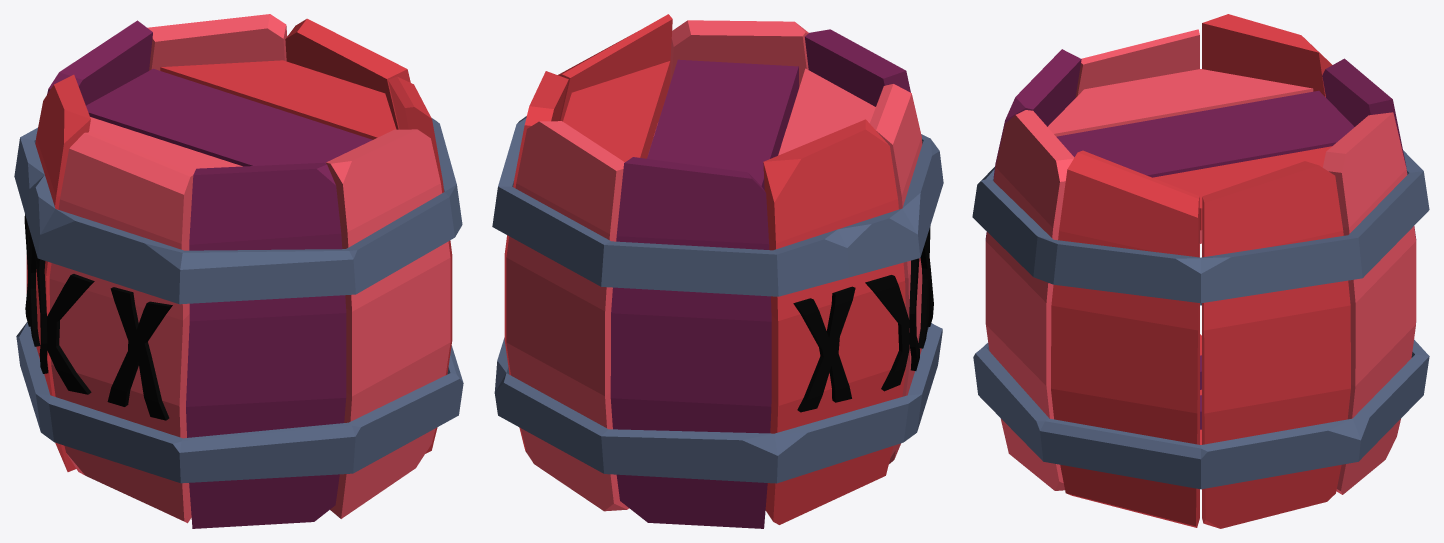
The model's file is Barrel 2_2b.fbx.
3 views of the same model, side by side, from view 1: azimuth 30°, elevation 25°; view 2: azimuth 150°, elevation 25°; view 3: azimuth 270°, elevation 25° (orthographic). The views are drawn at different scales.
Visible parts, largest first — view 1: Barrel 2_2b.004, Barrel 2_2b.009, Barrel 2_2b.005, Barrel 2_2b.002, Barrel 2_2b.010, Barrel 2_2b.011, Barrel 2_2b.003, Barrel 2_2b.006, Barrel 2_2b.007, Barrel 2_2b.001, Barrel 2_2b.008; view 2: Barrel 2_2b.001, Barrel 2_2b.003, Barrel 2_2b.006, Barrel 2_2b.010, Barrel 2_2b.002, Barrel 2_2b.011, Barrel 2_2b.009, Barrel 2_2b.005, Barrel 2_2b.004, Barrel 2_2b.008, Barrel 2_2b.007; view 3: Barrel 2_2b.008, Barrel 2_2b.007, Barrel 2_2b.002, Barrel 2_2b.010, Barrel 2_2b.011, Barrel 2_2b.006, Barrel 2_2b.005, Barrel 2_2b.003, Barrel 2_2b.009, Barrel 2_2b.004, Barrel 2_2b.001.
Part boxes in pixels (bbox=[...]): Barrel 2_2b.004: bbox=[186, 162, 346, 528]; Barrel 2_2b.009: bbox=[47, 132, 193, 523]; Barrel 2_2b.005: bbox=[326, 129, 450, 518]; Barrel 2_2b.002: bbox=[86, 60, 396, 174]; Barrel 2_2b.010: bbox=[14, 117, 462, 304]; Barrel 2_2b.011: bbox=[16, 322, 463, 483]; Barrel 2_2b.003: bbox=[24, 74, 90, 471]; Barrel 2_2b.006: bbox=[147, 14, 287, 70]; Barrel 2_2b.007: bbox=[285, 18, 410, 129]; Barrel 2_2b.001: bbox=[47, 20, 152, 105]; Barrel 2_2b.008: bbox=[388, 76, 452, 453]; Barrel 2_2b.001: bbox=[610, 157, 771, 528]; Barrel 2_2b.003: bbox=[763, 119, 909, 524]; Barrel 2_2b.006: bbox=[506, 121, 629, 511]; Barrel 2_2b.010: bbox=[492, 116, 943, 296]; Barrel 2_2b.002: bbox=[563, 59, 875, 190]; Barrel 2_2b.011: bbox=[494, 323, 942, 483]; Barrel 2_2b.009: bbox=[870, 84, 933, 463]; Barrel 2_2b.005: bbox=[670, 20, 808, 128]; Barrel 2_2b.004: bbox=[805, 29, 910, 106]; Barrel 2_2b.008: bbox=[558, 14, 672, 156]; Barrel 2_2b.007: bbox=[504, 71, 568, 452]; Barrel 2_2b.008: bbox=[1051, 150, 1199, 527]; Barrel 2_2b.007: bbox=[1202, 161, 1350, 528]; Barrel 2_2b.002: bbox=[1048, 69, 1354, 243]; Barrel 2_2b.010: bbox=[972, 150, 1429, 303]; Barrel 2_2b.011: bbox=[973, 303, 1429, 489]; Barrel 2_2b.006: bbox=[1323, 112, 1416, 494]; Barrel 2_2b.005: bbox=[985, 110, 1074, 490]; Barrel 2_2b.003: bbox=[1202, 14, 1332, 247]; Barrel 2_2b.009: bbox=[1075, 29, 1199, 256]; Barrel 2_2b.004: bbox=[985, 49, 1081, 240]; Barrel 2_2b.001: bbox=[1322, 58, 1416, 322].
Size of the model in its own units: 94.7 by 82.48 by 94.7.
